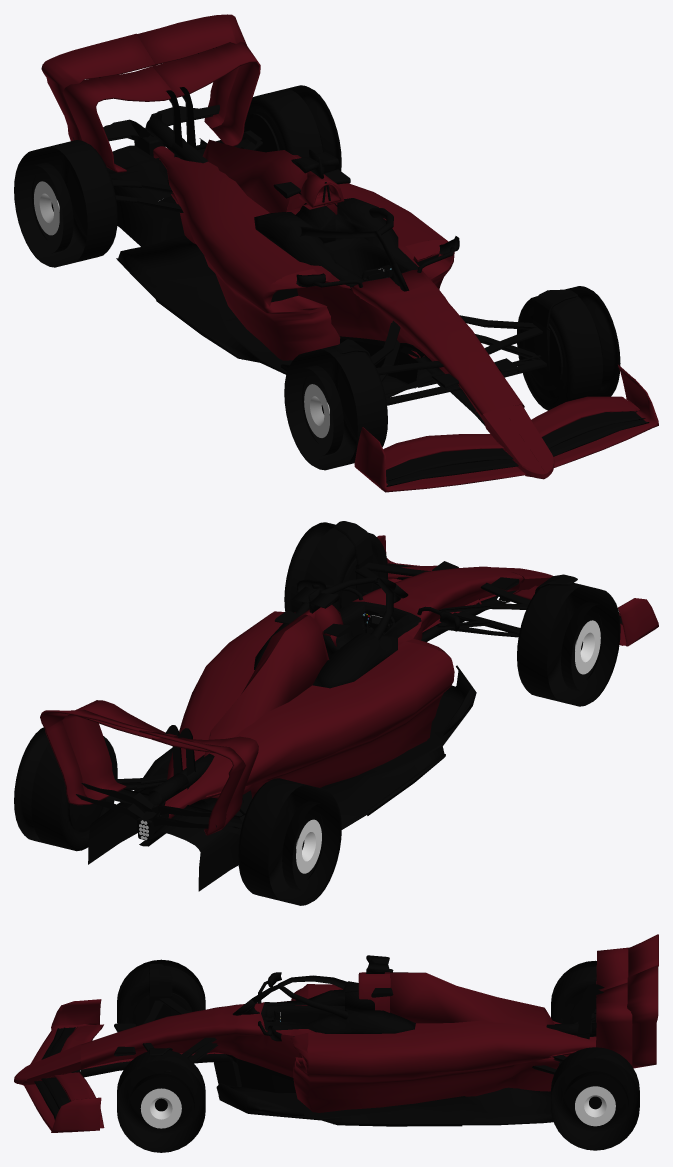
The model's file is car.glb.
The picture shows the model from 3 angles, top to bottom: view 1: azimuth 30°, elevation 25°; view 2: azimuth 150°, elevation 25°; view 3: azimuth 270°, elevation 25°; orthographic projection. The views are drawn at different scales.
Parts seen in each view (by area): view 1: Object_74, Object_72, Object_44, Object_49, Object_23, Object_66, Object_65, Object_32, Object_63, Object_53, Object_62, Object_50 (+12 smaller); view 2: Object_74, Object_72, Object_44, Object_23, Object_53, Object_66, Object_49, Object_32, Object_69, Object_26, Object_65, Object_73 (+7 smaller); view 3: Object_72, Object_74, Object_23, Object_49, Object_44, Object_53, Object_66, Object_65, Object_69, Object_50, Object_62, Object_24 (+13 smaller).
Part boxes in pixels (left/top/right/bottom): Object_74: left=14, top=85, right=620, bottom=470; Object_72: left=153, top=146, right=454, bottom=360; Object_44: left=41, top=14, right=260, bottom=172; Object_49: left=297, top=269, right=524, bottom=421; Object_23: left=116, top=235, right=433, bottom=392; Object_66: left=254, top=198, right=418, bottom=291; Object_65: left=354, top=364, right=658, bottom=492; Object_32: left=107, top=145, right=184, bottom=246; Object_63: left=386, top=411, right=645, bottom=486; Object_53: left=202, top=139, right=307, bottom=213; Object_62: left=383, top=396, right=638, bottom=469; Object_50: left=481, top=405, right=554, bottom=479; Object_74: left=14, top=522, right=620, bottom=905; Object_72: left=158, top=611, right=454, bottom=818; Object_44: left=40, top=700, right=258, bottom=835; Object_23: left=134, top=665, right=476, bottom=829; Object_53: left=204, top=614, right=329, bottom=756; Object_66: left=254, top=577, right=421, bottom=688; Object_49: left=352, top=566, right=523, bottom=640; Object_32: left=139, top=797, right=242, bottom=891; Object_69: left=296, top=620, right=600, bottom=873; Object_26: left=88, top=784, right=159, bottom=864; Object_65: left=377, top=535, right=658, bottom=646; Object_73: left=274, top=586, right=351, bottom=637; Object_72: left=266, top=984, right=596, bottom=1112; Object_74: left=117, top=959, right=639, bottom=1152; Object_23: left=216, top=1083, right=553, bottom=1126; Object_49: left=80, top=1002, right=307, bottom=1077; Object_44: left=596, top=934, right=658, bottom=1068; Object_53: left=390, top=972, right=554, bottom=1026; Object_66: left=232, top=975, right=415, bottom=1033; Object_65: left=24, top=999, right=101, bottom=1132; Object_69: left=140, top=1086, right=615, bottom=1128; Object_50: left=14, top=1044, right=81, bottom=1085; Object_62: left=54, top=1024, right=104, bottom=1128; Object_24: left=213, top=1062, right=295, bottom=1093.
Bounding box in the file's own units: 1.78 × 1.08 × 4.46.
